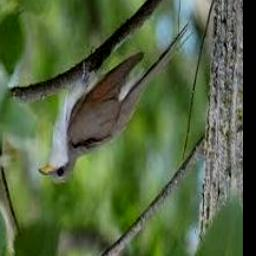Cuckoo: (38, 23, 192, 183)
